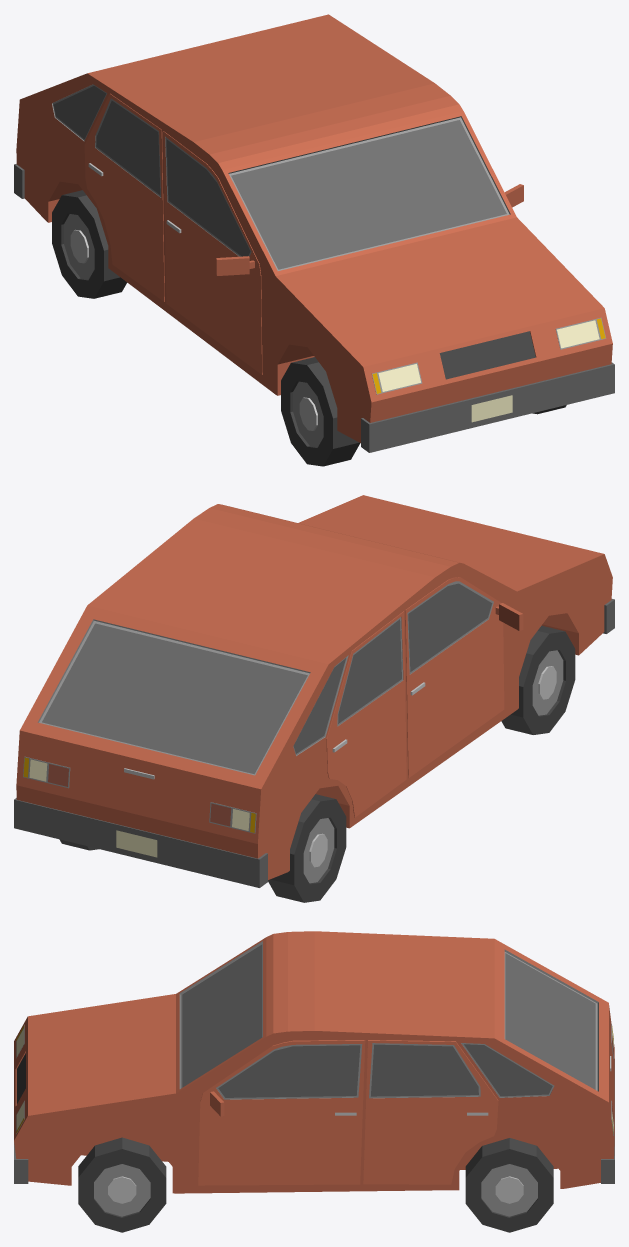
Rendered from foreign car_1.fbx.
The picture shows the model from 3 angles, top to bottom: view 1: azimuth 30°, elevation 25°; view 2: azimuth 150°, elevation 25°; view 3: azimuth 270°, elevation 25°; orthographic projection. The views are drawn at different scales.
Parts seen in each view (by area): view 1: ege, Cylinder_2_2, Cylinder_2_3; view 2: ege, Cylinder_2_3, Cylinder_2_2; view 3: ege, Cylinder_2_1, Cylinder_2.
Part boxes in pixels (x1,y1,x2,y2): ege: (14, 14, 614, 452); Cylinder_2_2: (281, 357, 360, 466); Cylinder_2_3: (52, 190, 127, 298); ege: (14, 495, 614, 887); Cylinder_2_3: (268, 794, 346, 902); Cylinder_2_2: (501, 625, 575, 734); ege: (14, 931, 614, 1193); Cylinder_2_1: (78, 1137, 166, 1232); Cylinder_2: (465, 1138, 553, 1232).
Bounding box in the file's own units: 169 × 126 × 339.
